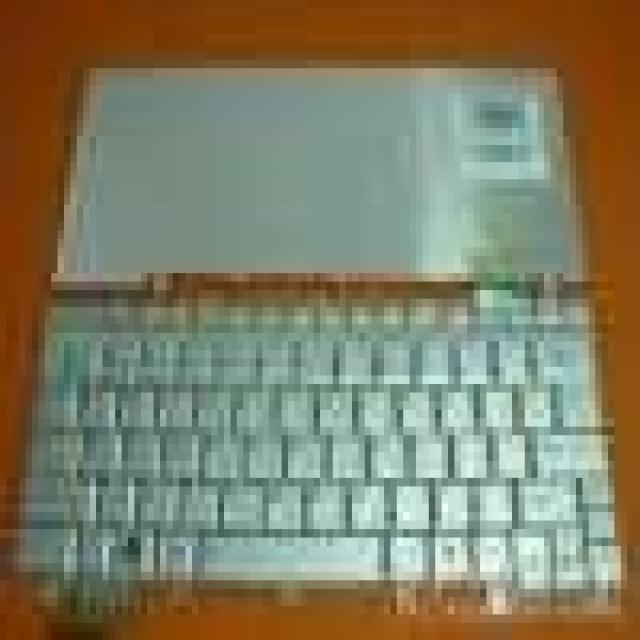laptop: (36, 57, 622, 605)
